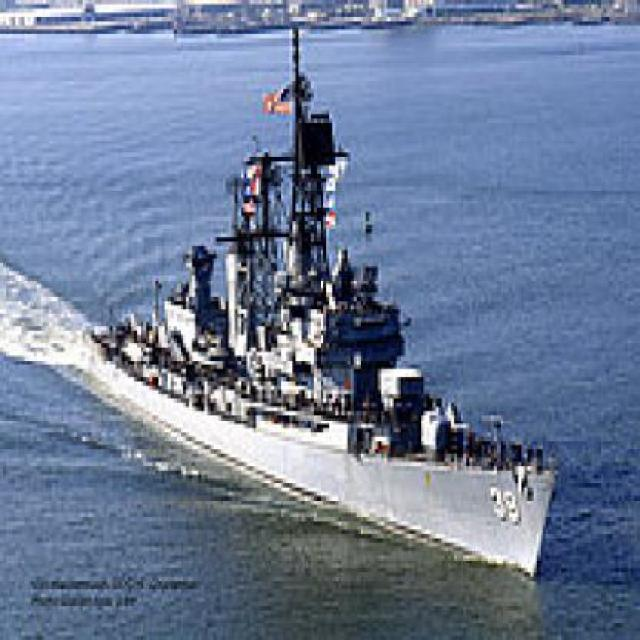warship2: (68, 26, 559, 582)
